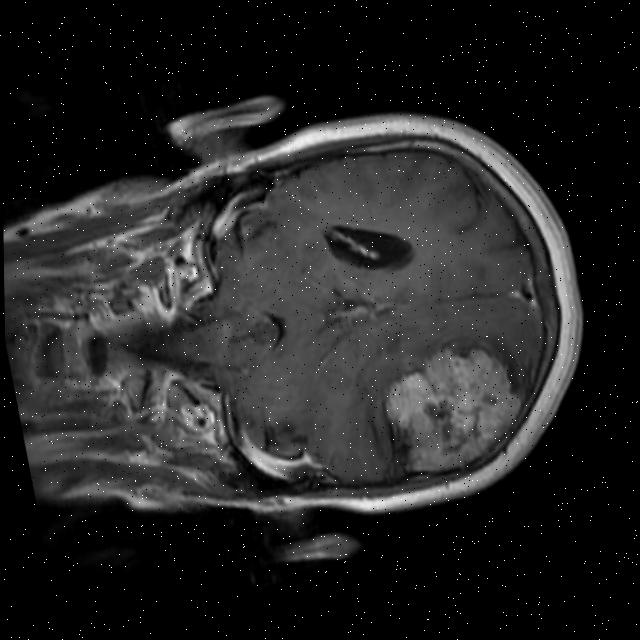Meningioma: (370, 331, 536, 485)
